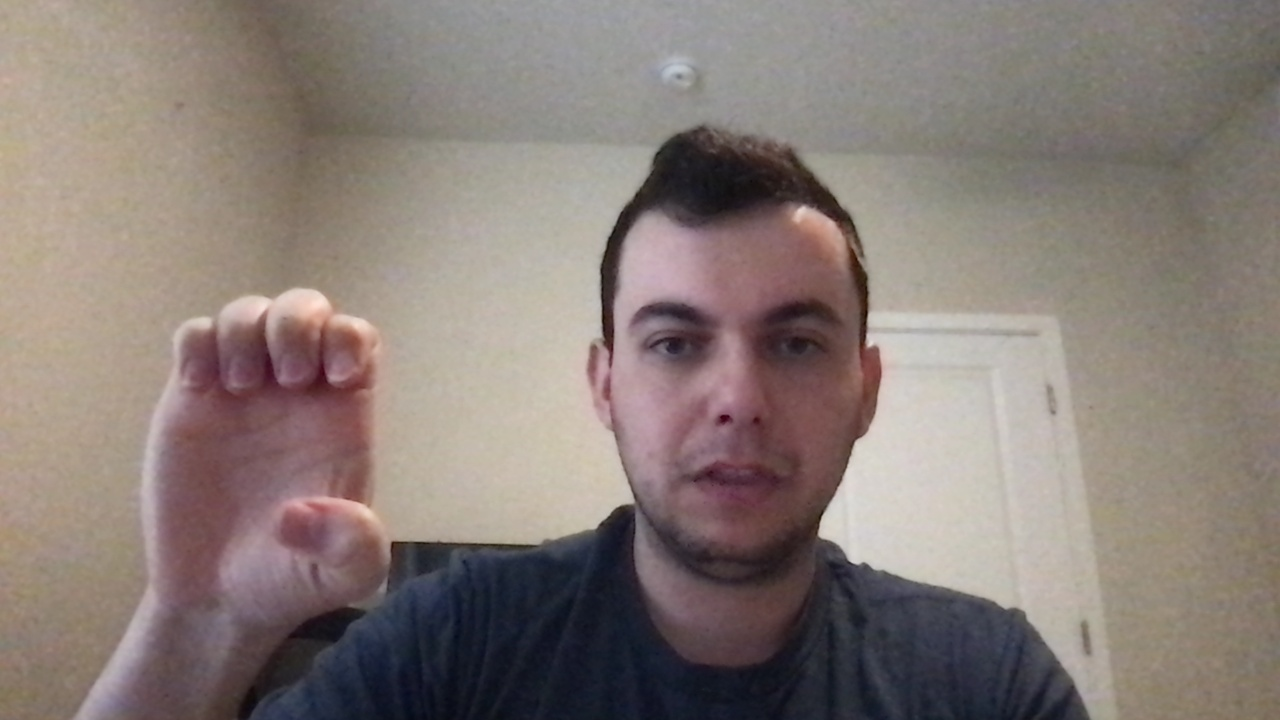e: (125, 276, 406, 624)
